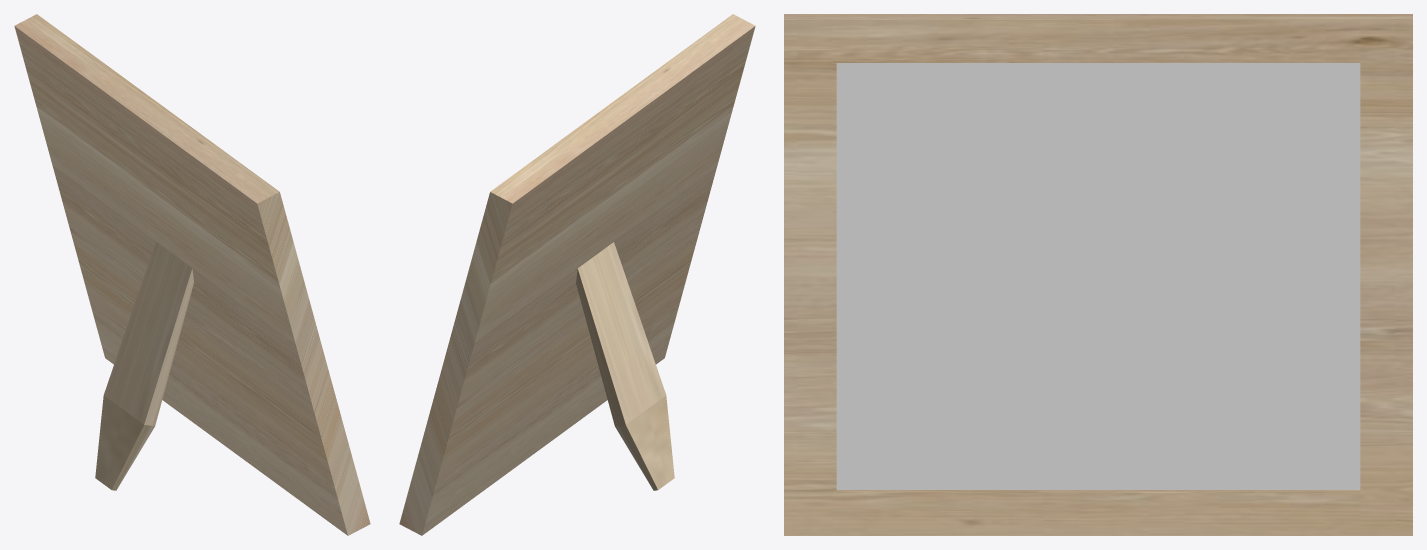
The model's file is CadrePhoto.fbx.
The picture shows the model from 3 angles, left to right: view 1: azimuth 30°, elevation 25°; view 2: azimuth 150°, elevation 25°; view 3: azimuth 270°, elevation 25°; orthographic projection. The views are drawn at different scales.
Parts seen in each view (by area): view 1: Support; view 2: Support; view 3: CadrePhoto, Support.
Boxes of the visible parts, x1,y1,x2,y2 form: Support: [14, 14, 370, 535]; Support: [399, 14, 755, 535]; CadrePhoto: [836, 63, 1360, 489]; Support: [784, 14, 1412, 535].
Size of the model in its own units: 6.23 by 15.11 by 18.
2 materials, 1 textured.
